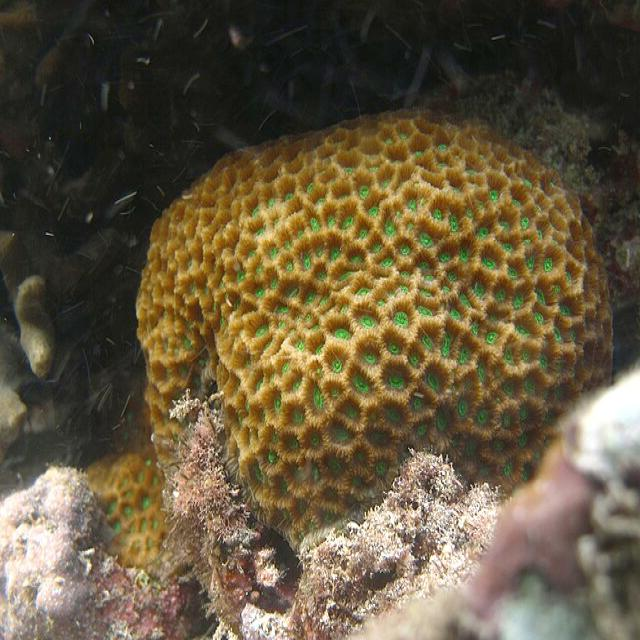Coral: (133, 106, 614, 558), (82, 450, 166, 570)
